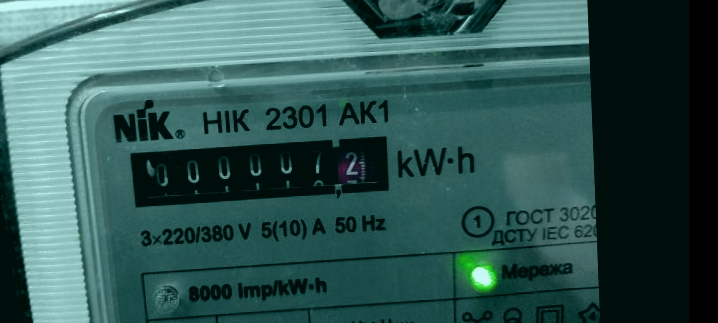0: (151, 159, 169, 187), (245, 149, 263, 177), (214, 151, 231, 180), (183, 156, 200, 183), (277, 147, 293, 175)
2: (342, 149, 359, 176)
7: (308, 145, 324, 175)
screen: (117, 129, 400, 212)
